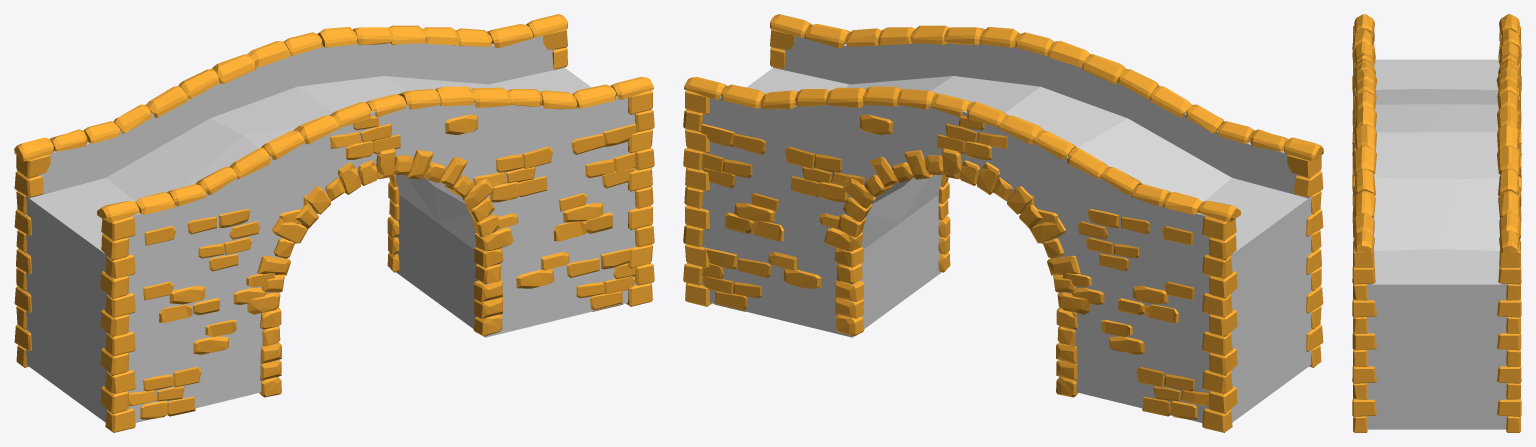
File: SM_Bridge_Stone_Small_Fantasy.fbx
3 renders of one model, left to right at view 1: azimuth 30°, elevation 25°; view 2: azimuth 150°, elevation 25°; view 3: azimuth 270°, elevation 25°, orthographic. The views are drawn at different scales.
Parts seen in each view (by area): view 1: SM_Bridge_Stone_Small_Fantasy; view 2: SM_Bridge_Stone_Small_Fantasy; view 3: SM_Bridge_Stone_Small_Fantasy.
Part boxes in pixels (left/top/right/bottom): SM_Bridge_Stone_Small_Fantasy: left=14, top=14, right=654, bottom=432; SM_Bridge_Stone_Small_Fantasy: left=683, top=14, right=1323, bottom=432; SM_Bridge_Stone_Small_Fantasy: left=1352, top=14, right=1521, bottom=432.
Bounding box in the file's own units: 14.31 × 6.67 × 4.46.
